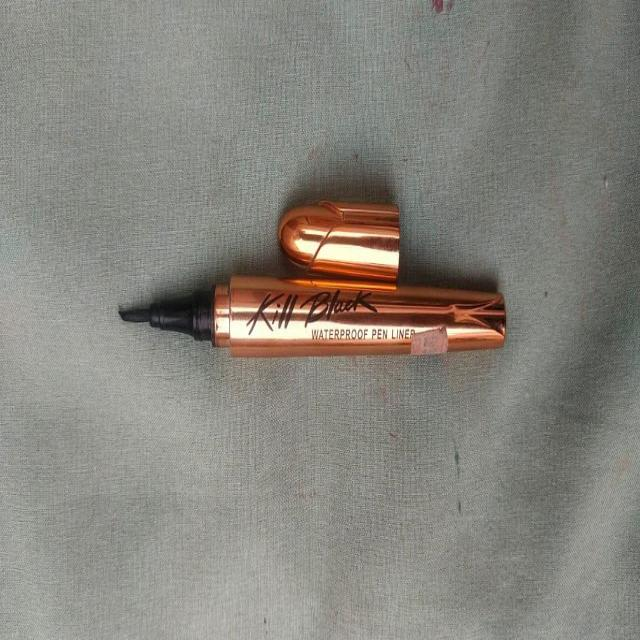eye liner: (105, 250, 515, 412)
